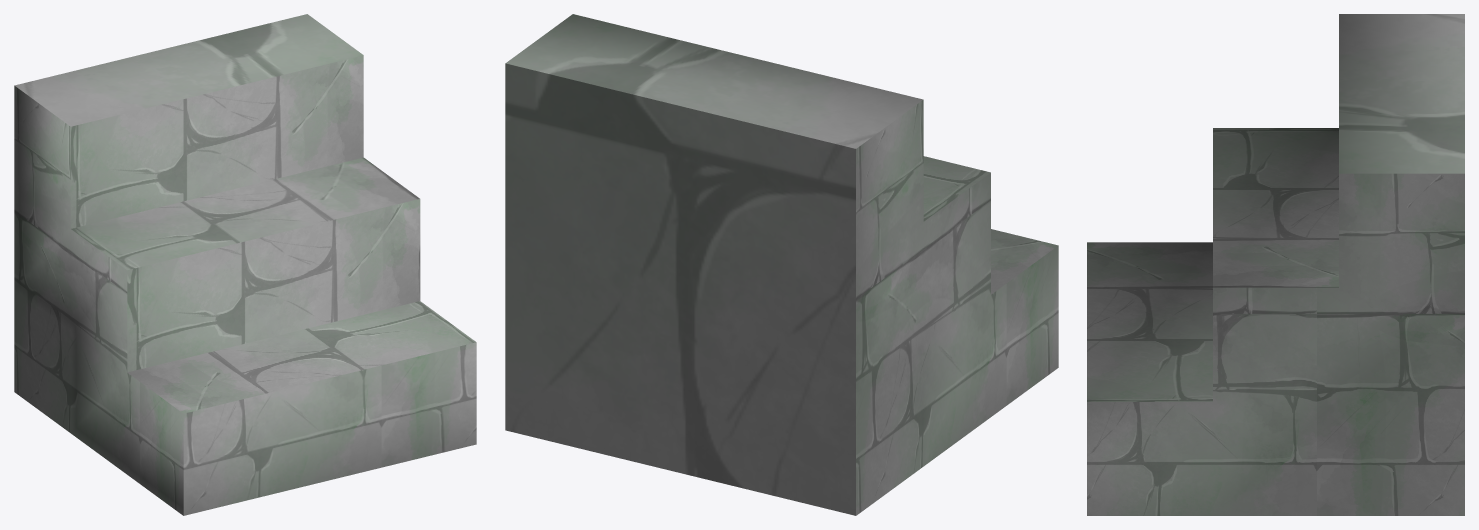
File: stairs.fbx
3 views of the same model, side by side, from view 1: azimuth 30°, elevation 25°; view 2: azimuth 150°, elevation 25°; view 3: azimuth 270°, elevation 25° (orthographic). The views are drawn at different scales.
Parts seen in each view (by area): view 1: pCube1; view 2: pCube1; view 3: pCube1.
Part boxes in pixels (x1,y1,x2,y2): pCube1: (14, 14, 476, 515); pCube1: (505, 14, 1058, 515); pCube1: (1087, 14, 1464, 515).
Size of the model in its own units: 1 by 1 by 1.
